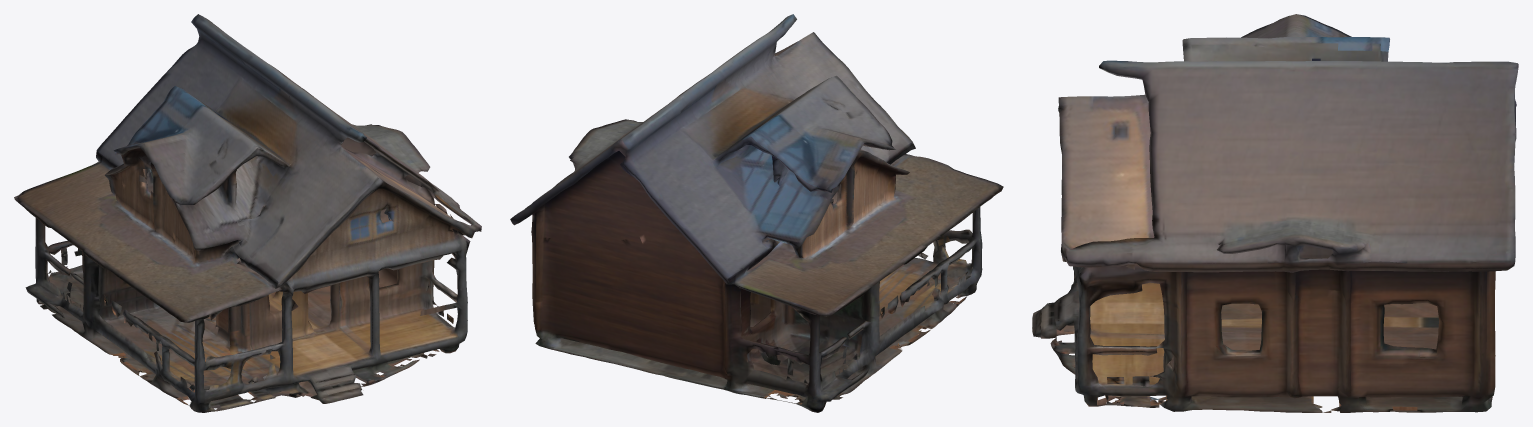
Rendered from wood_house_1020104159_refine.glb.
The picture shows the model from 3 angles, left to right: view 1: azimuth 30°, elevation 25°; view 2: azimuth 150°, elevation 25°; view 3: azimuth 270°, elevation 25°; orthographic projection. The views are drawn at different scales.
Size of the model in its own units: 1.86 by 1.34 by 2.
Materials: 1 (1 with a texture image).
